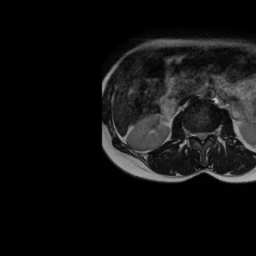CCS_normal: (199, 127, 204, 147)
LFS_severe_stenosis: (209, 126, 213, 139)
LLS_stenosis: (204, 127, 209, 142)
RFS_stenosis: (190, 128, 195, 143)
RLS_stenosis: (195, 127, 200, 143)
